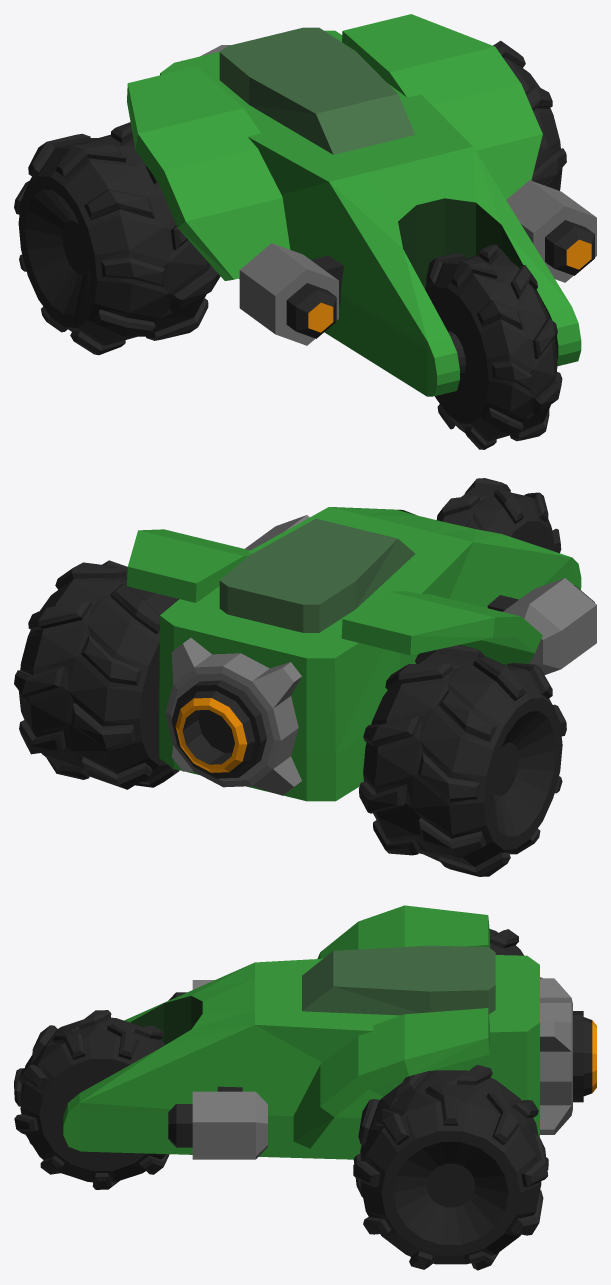
File: 3-wheels_base.fbx
3 views of the same model, one above another, from view 1: azimuth 30°, elevation 25°; view 2: azimuth 150°, elevation 25°; view 3: azimuth 270°, elevation 25° (orthographic). The views are drawn at different scales.
Visible parts, largest first — view 1: Cube.056, Plane.005, Cylinder.070, Cylinder.069, Cylinder.071; view 2: Cylinder.070, Cube.056, Cylinder.068, Plane.005, Cylinder.071, Cylinder.069; view 3: Cube.056, Cylinder.070, Plane.005, Cylinder.069, Cylinder.068, Cylinder.071.
Boxes of the visible parts, x1,y1,x2,y2 form: Cube.056: [160, 27, 581, 396]; Plane.005: [127, 14, 542, 280]; Cylinder.070: [14, 40, 566, 355]; Cylinder.069: [425, 244, 562, 449]; Cylinder.071: [239, 180, 596, 345]; Cylinder.070: [14, 560, 566, 876]; Cube.056: [159, 507, 581, 801]; Cylinder.068: [165, 638, 301, 795]; Plane.005: [127, 529, 542, 664]; Cylinder.071: [245, 515, 596, 674]; Cylinder.069: [436, 478, 561, 553]; Cube.056: [63, 945, 539, 1159]; Cylinder.070: [353, 929, 548, 1270]; Plane.005: [293, 905, 489, 1148]; Cylinder.069: [14, 1010, 169, 1189]; Cylinder.068: [540, 978, 596, 1134]; Cylinder.071: [168, 980, 267, 1159].
Size of the model in its own units: 189 by 93.16 by 231.
